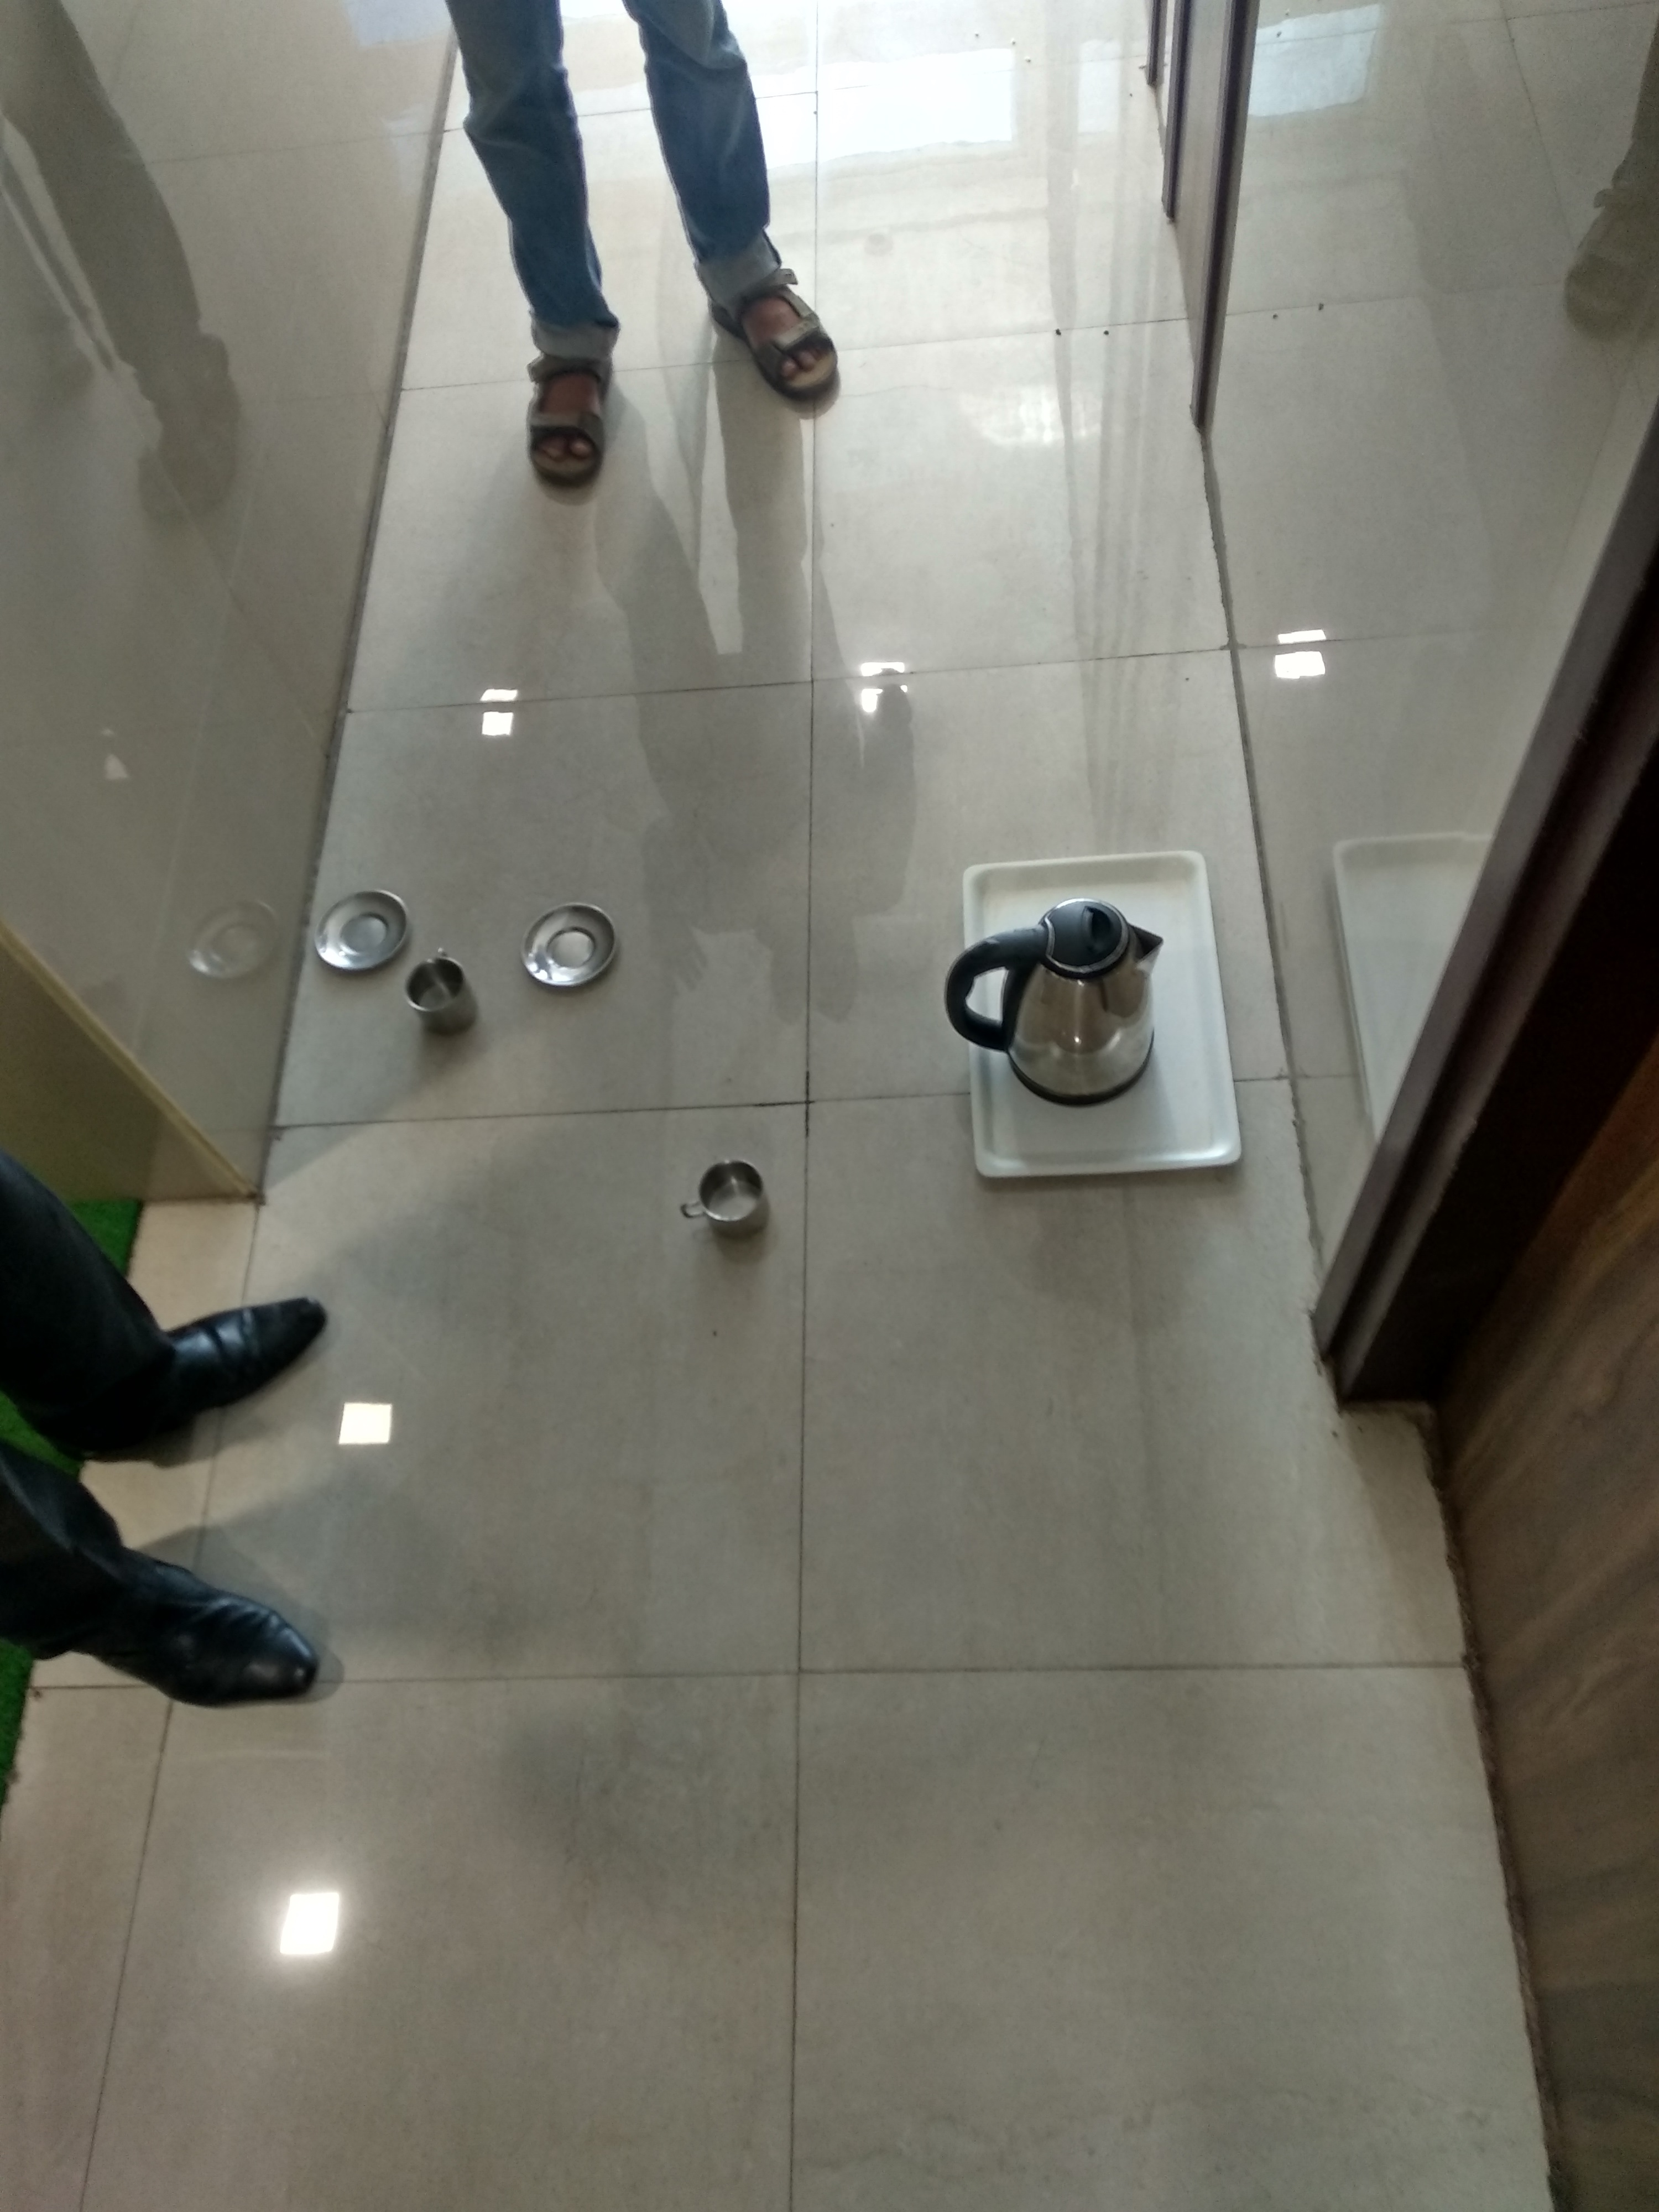CUP: (396, 953, 481, 1031), (709, 1169, 770, 1237)
FLASK: (974, 902, 1168, 1092)
